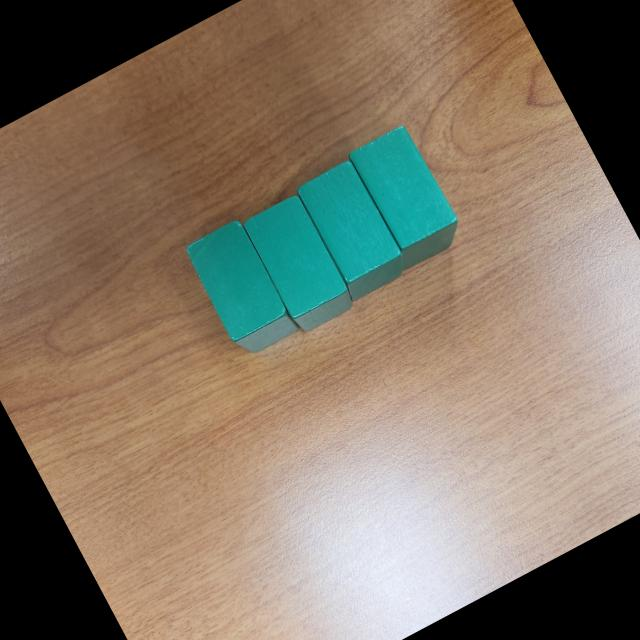green: (342, 122, 469, 274), (290, 154, 414, 304), (181, 215, 304, 365), (239, 189, 361, 338)
